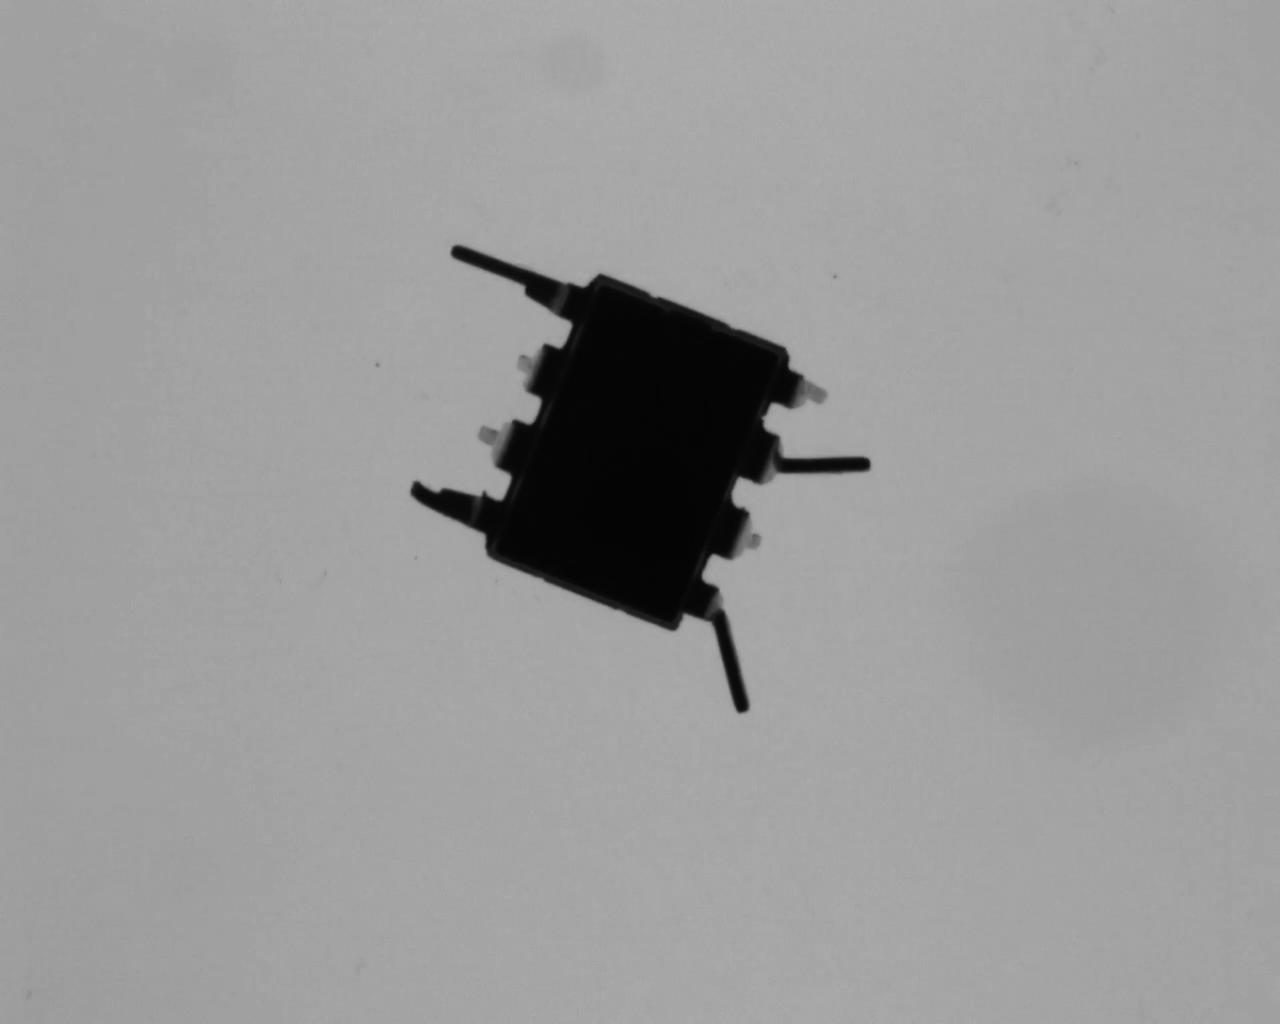Leg: (443, 227, 598, 331), (695, 576, 759, 716), (735, 424, 870, 486), (406, 480, 505, 536), (497, 335, 566, 397), (469, 414, 537, 473), (768, 365, 837, 419), (721, 502, 766, 564)
